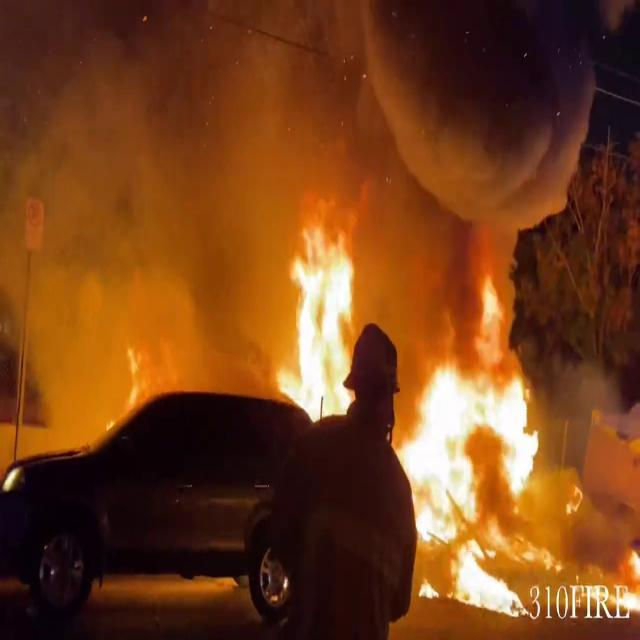Fire: (396, 280, 578, 620), (271, 225, 369, 420)
Smoke: (3, 0, 584, 271)
